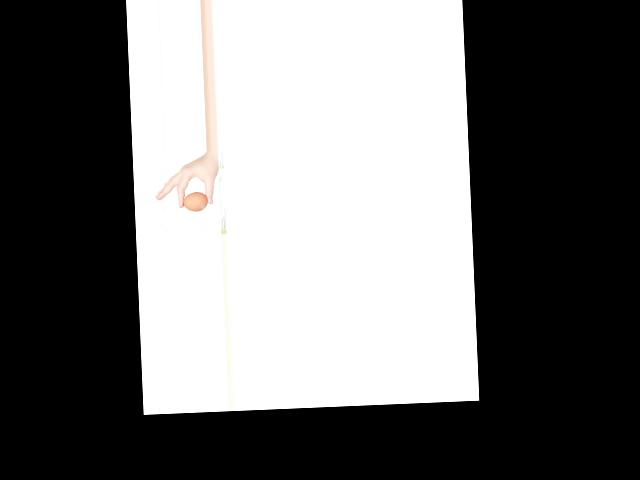egg: (183, 191, 208, 211)
